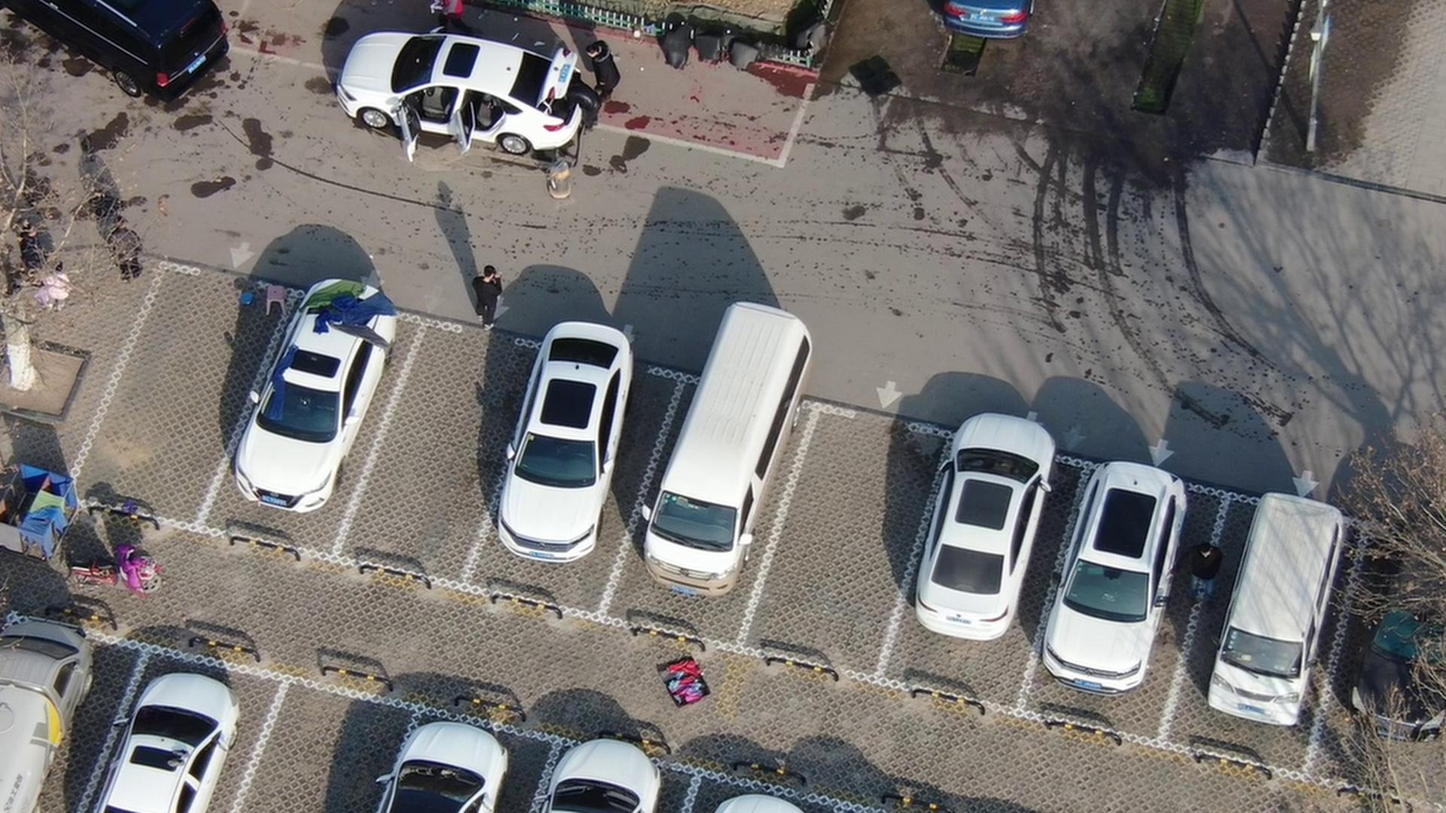human: (563, 67, 609, 138), (1171, 544, 1222, 607), (472, 259, 512, 330), (115, 221, 154, 281), (25, 218, 56, 282), (54, 257, 85, 318), (589, 39, 620, 95)
